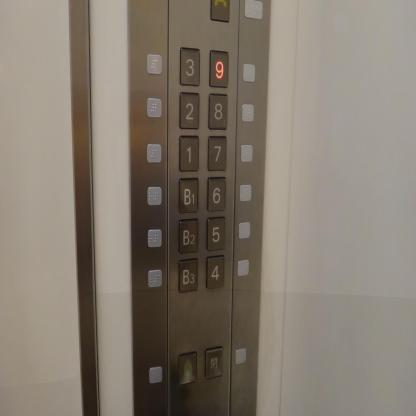1: (179, 134, 199, 172)
2: (179, 90, 200, 130)
3: (179, 46, 201, 86)
4: (206, 254, 225, 289)
5: (206, 215, 226, 251)
6: (207, 176, 226, 211)
7: (207, 134, 227, 171)
8: (208, 92, 228, 130)
9: (209, 48, 230, 88)
B1: (178, 176, 199, 213)
B2: (178, 217, 198, 254)
B3: (178, 257, 198, 294)
call: (210, 0, 230, 22)
stop: (179, 352, 196, 384)
text: (205, 346, 222, 379)
